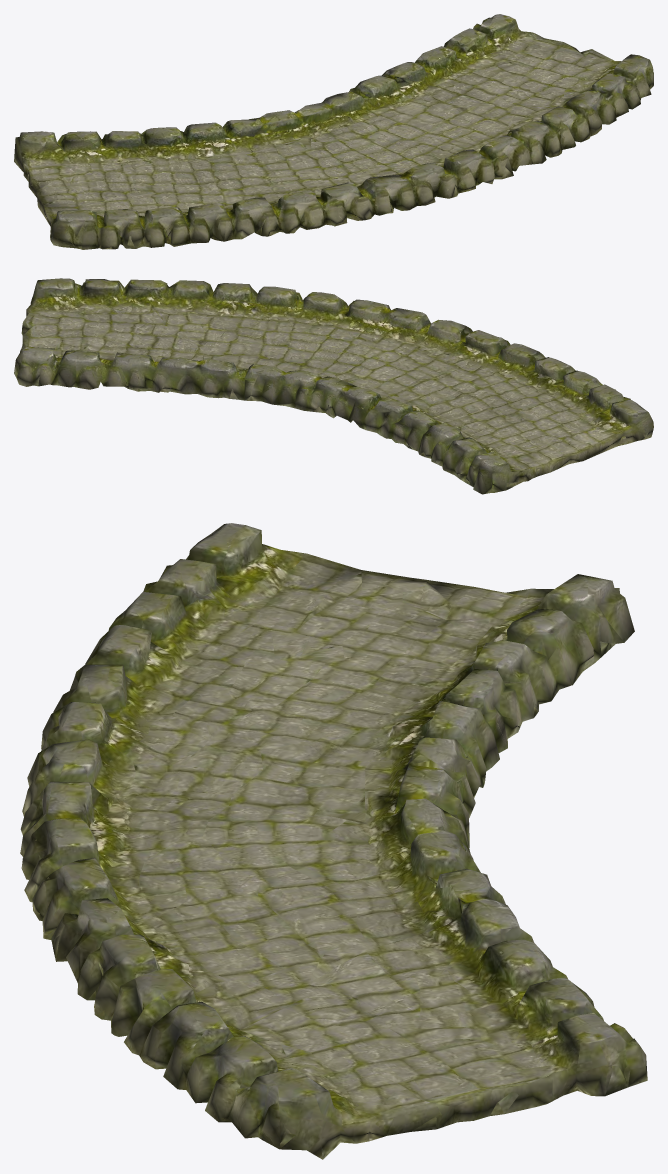
File: road-curve.glb
3 views of the same model, one above another, from view 1: azimuth 30°, elevation 25°; view 2: azimuth 150°, elevation 25°; view 3: azimuth 270°, elevation 25° (orthographic). The views are drawn at different scales.
Size of the model in its own units: 1.91 by 0.0938 by 0.8606.
Materials: 1 (1 with a texture image).
